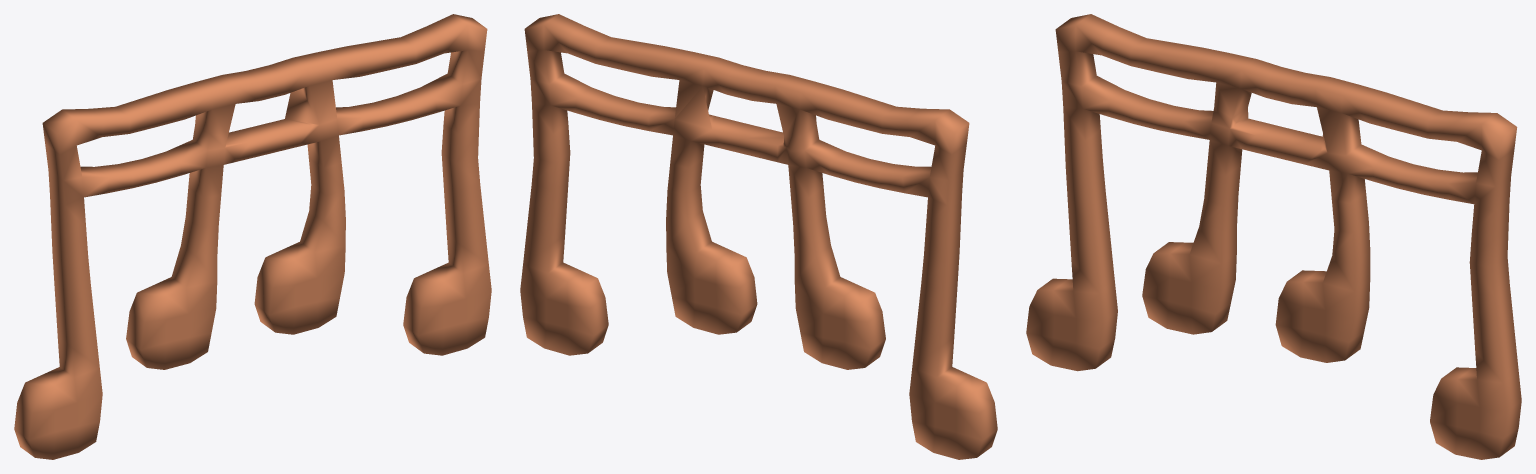
The model's file is Key_05.fbx.
3 views of the same model, side by side, from view 1: azimuth 30°, elevation 25°; view 2: azimuth 150°, elevation 25°; view 3: azimuth 330°, elevation 25° (orthographic). The views are drawn at different scales.
Parts seen in each view (by area): view 1: Key_05; view 2: Key_05; view 3: Key_05.
Boxes of the visible parts, x1,y1,x2,y2 form: Key_05: (14,14,491,459); Key_05: (520,14,997,459); Key_05: (1026,14,1521,459).
Size of the model in its own units: 295 by 203 by 16.42.
